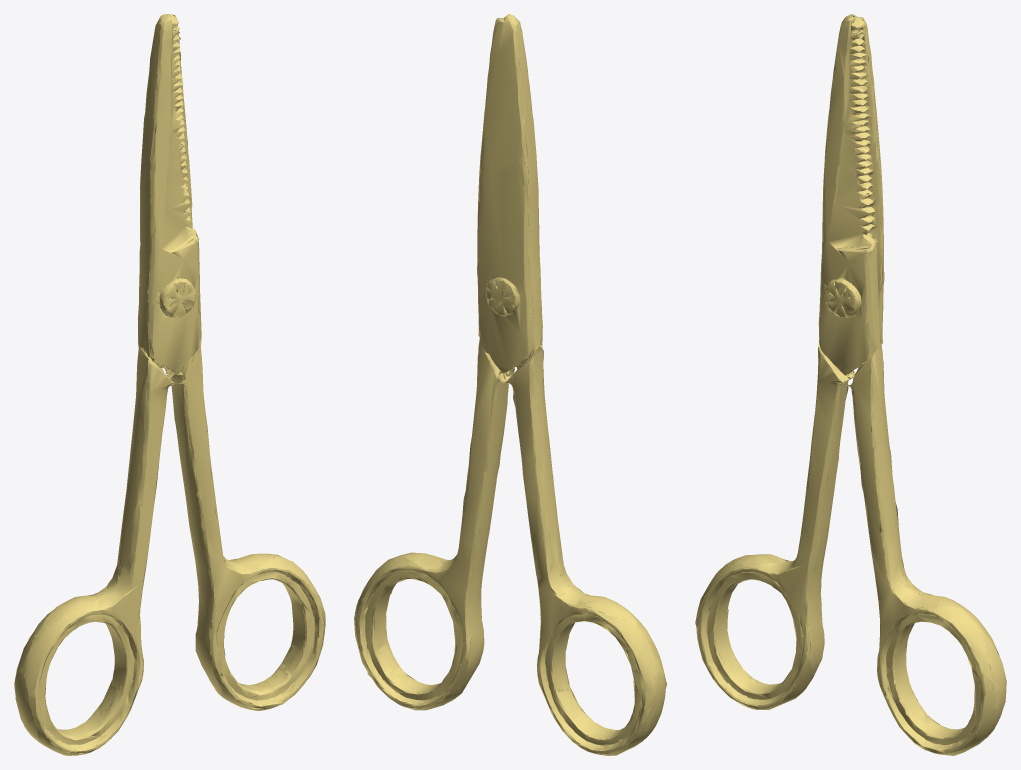
Rendered from equip_anatom_specimen_forceps.glb.
3 views of the same model, side by side, from view 1: azimuth 30°, elevation 25°; view 2: azimuth 150°, elevation 25°; view 3: azimuth 330°, elevation 25° (orthographic).
Parts seen in each view (by area): view 1: world; view 2: world; view 3: world.
Part boxes in pixels (bbox=[...]): world: bbox=[14, 14, 325, 755]; world: bbox=[354, 14, 666, 755]; world: bbox=[695, 14, 1006, 755].
Bounding box in the file's own units: 0.0796 × 0.1801 × 0.0102.
